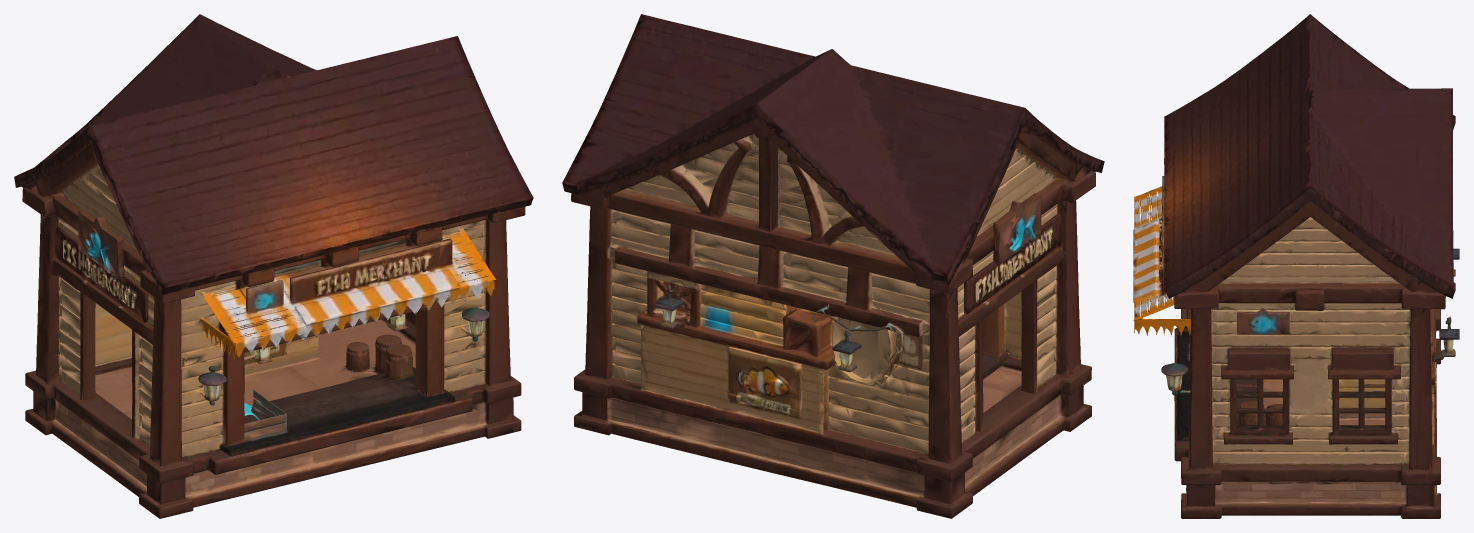
File: FISHSHOP-f0530092.glb
The picture shows the model from 3 angles, left to right: view 1: azimuth 30°, elevation 25°; view 2: azimuth 150°, elevation 25°; view 3: azimuth 270°, elevation 25°; orthographic projection. The views are drawn at different scales.
Visible parts, largest first — view 1: tripo_node_c36fecc5-8c8b-4a95-b806-d7bbdb566099; view 2: tripo_node_c36fecc5-8c8b-4a95-b806-d7bbdb566099; view 3: tripo_node_c36fecc5-8c8b-4a95-b806-d7bbdb566099.
Part boxes in pixels (x1,y1,x2,y2): tripo_node_c36fecc5-8c8b-4a95-b806-d7bbdb566099: [14, 14, 533, 518]; tripo_node_c36fecc5-8c8b-4a95-b806-d7bbdb566099: [562, 14, 1104, 518]; tripo_node_c36fecc5-8c8b-4a95-b806-d7bbdb566099: [1133, 14, 1459, 518].
Bounding box in the file's own units: 0.9518 × 0.8859 × 0.7567.
Materials: 1 (1 with a texture image).
